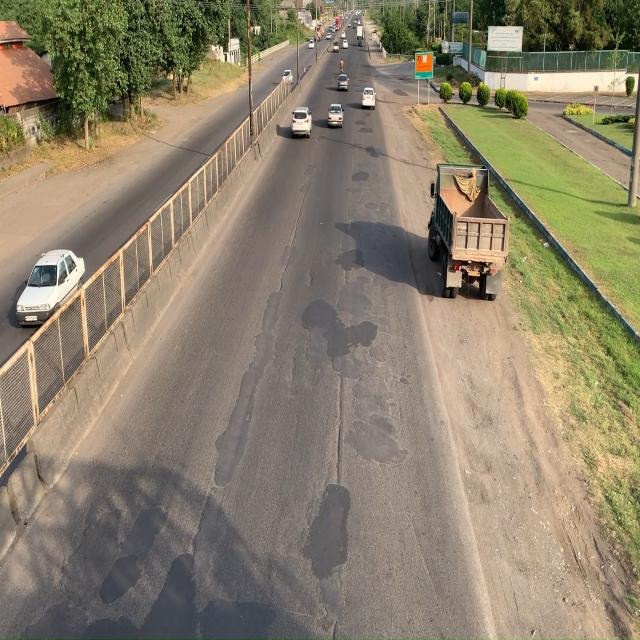Truck: (429, 162, 509, 300)
cars: (14, 241, 86, 334), (290, 100, 311, 139), (361, 82, 381, 117), (327, 96, 343, 132)
